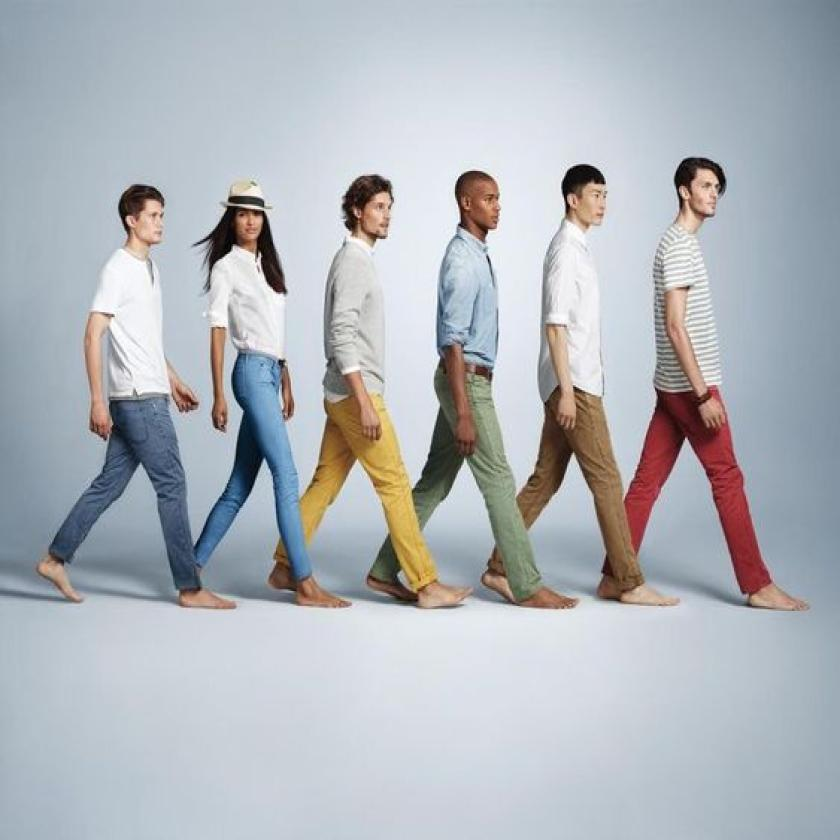Sin_casco: (669, 155, 731, 229), (344, 173, 401, 250), (451, 168, 506, 244), (115, 181, 172, 249), (560, 161, 610, 236)
